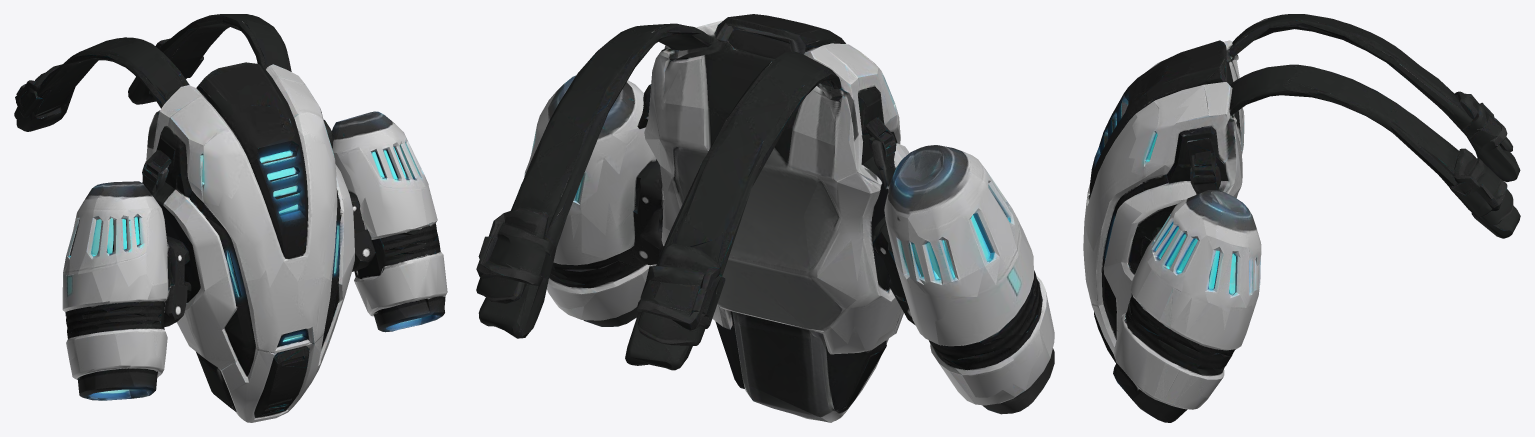
Rendered from acc_jetpack.glb.
3 renders of one model, left to right at view 1: azimuth 30°, elevation 25°; view 2: azimuth 150°, elevation 25°; view 3: azimuth 270°, elevation 25°, orthographic. The views are drawn at different scales.
Parts seen in each view (by area): view 1: Mesh_0; view 2: Mesh_0; view 3: Mesh_0.
Part boxes in pixels (left/top/right/bottom): Mesh_0: left=14, top=14, right=447, bottom=422; Mesh_0: left=476, top=14, right=1054, bottom=422; Mesh_0: left=1083, top=14, right=1520, bottom=422.
Bounding box in the file's own units: 1.9 × 1.64 × 1.87.
Materials: 1 (1 with a texture image).
